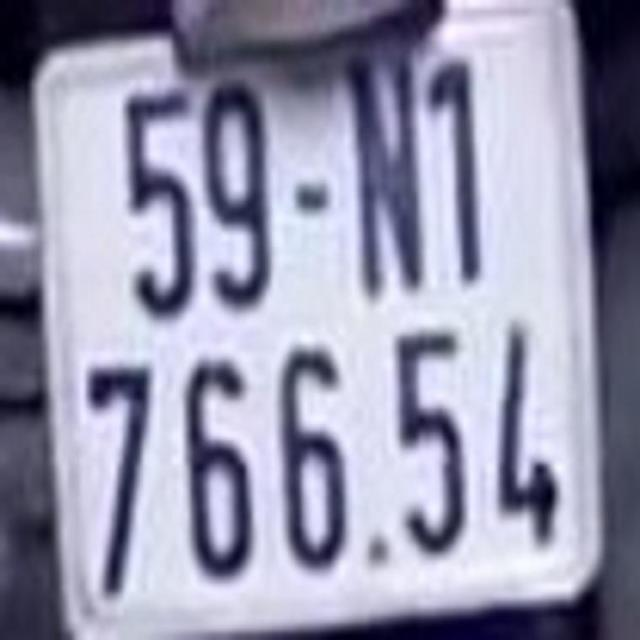1: (432, 65, 487, 280)
4: (496, 326, 561, 544)
5: (392, 326, 469, 556), (128, 90, 194, 320)
6: (180, 358, 259, 572), (277, 344, 350, 561)
7: (82, 364, 160, 592)
9: (204, 86, 272, 310)
N: (356, 60, 420, 295)
